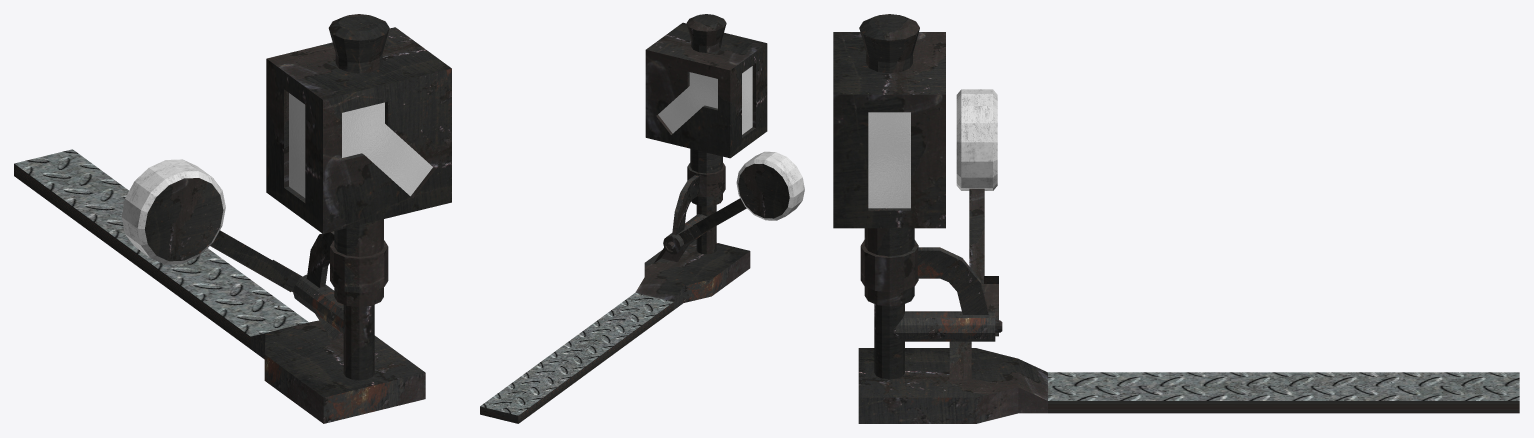
Rendered from switch_signal_1.obj.
3 views of the same model, side by side, from view 1: azimuth 30°, elevation 25°; view 2: azimuth 150°, elevation 25°; view 3: azimuth 270°, elevation 25° (orthographic). The views are drawn at different scales.
Parts seen in each view (by area): view 1: switc_signal_1; view 2: switc_signal_1; view 3: switc_signal_1.
Part boxes in pixels (box(x1,y1,x2,y2)): switc_signal_1: box(14, 14, 451, 423); switc_signal_1: box(480, 14, 804, 423); switc_signal_1: box(833, 14, 1519, 423).
Bounding box in the file's own units: 0.6919 × 0.9973 × 1.65.
1 material, 1 textured.
